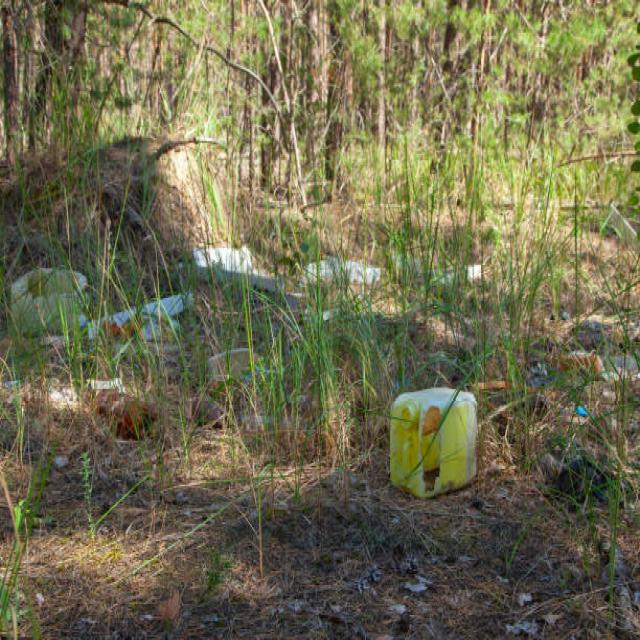plastic: (378, 384, 488, 498)
